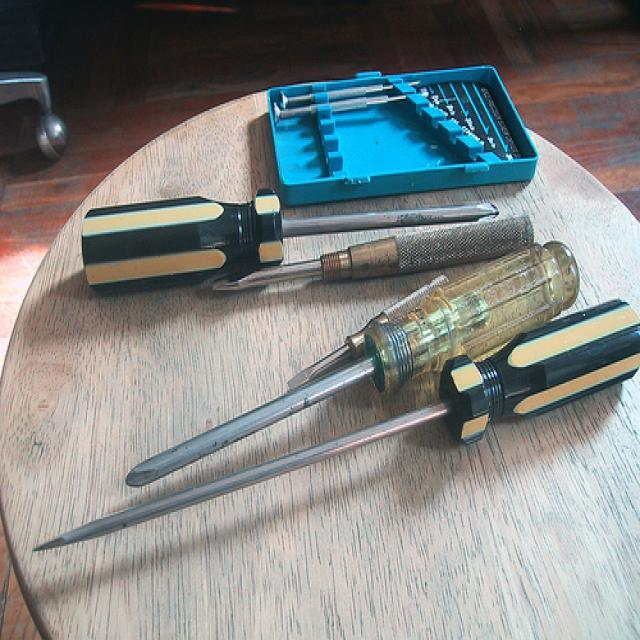screwdriver: (17, 301, 640, 603), (111, 244, 591, 496), (219, 207, 542, 318), (69, 196, 514, 243)
